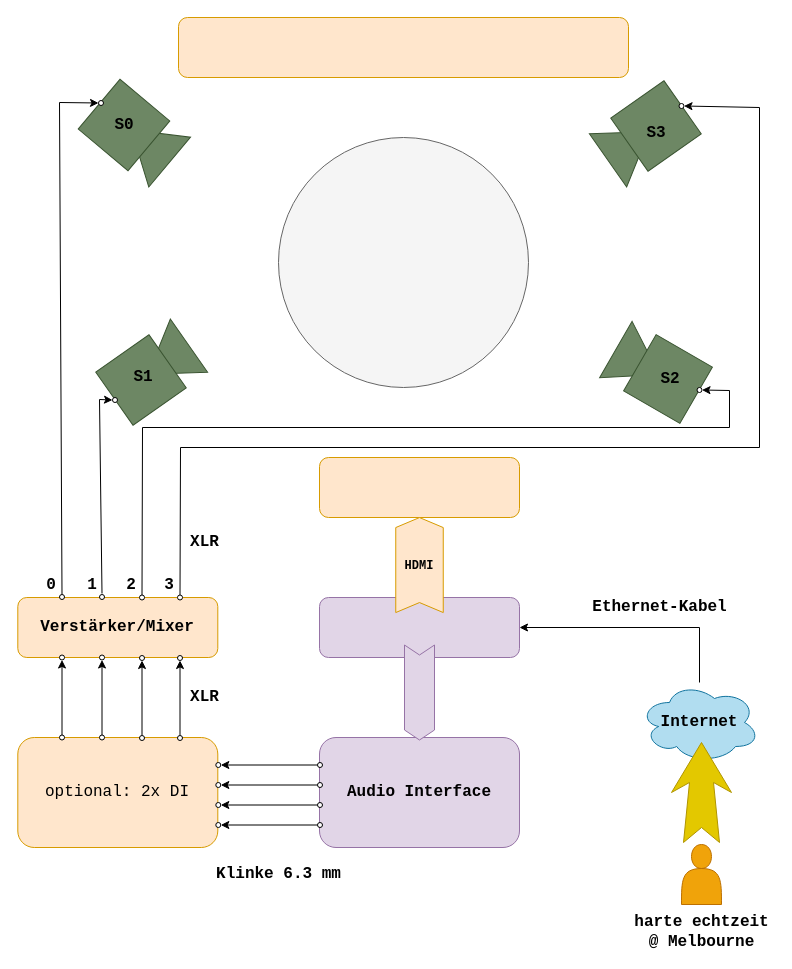
This 792x969 diagram has some shape labels left out. Here are the shapes that lost their labels. From the top down, the box of each, then its label:
(178, 16, 628, 78): Leinwand
(278, 136, 528, 388): Publikum
(318, 456, 520, 518): Beamer
(318, 596, 520, 658): Computer
(404, 644, 434, 740): USB
